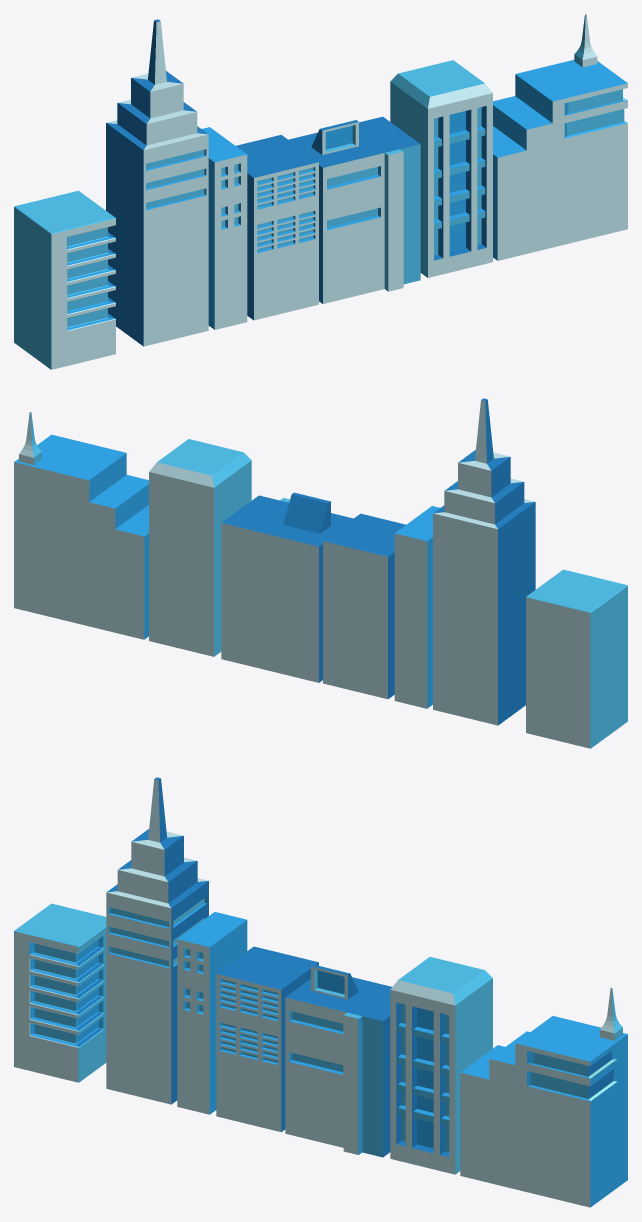
Rendered from bld-bg.fbx.
The picture shows the model from 3 angles, top to bottom: view 1: azimuth 30°, elevation 25°; view 2: azimuth 150°, elevation 25°; view 3: azimuth 330°, elevation 25°; orthographic projection.
Visible parts, largest first — view 1: Cube.011, Cube.012, Cube.009, Cube.013, Cube.003, Cube.004, Cube.007; view 2: Cube.011, Cube.012, Cube.009, Cube.013, Cube.003, Cube.004, Cube.007; view 3: Cube.012, Cube.011, Cube.009, Cube.013, Cube.003, Cube.004, Cube.007.
Boxes of the visible parts, x1,y1,x2,y2 form: Cube.011: (106,19,208,346); Cube.012: (493,14,627,260); Cube.009: (288,116,420,303); Cube.013: (390,60,492,277); Cube.003: (14,190,115,369); Cube.004: (236,134,318,320); Cube.007: (202,127,247,329); Cube.011: (433,398,535,725); Cube.012: (14,411,148,639); Cube.009: (221,492,353,682); Cube.013: (149,439,251,656); Cube.003: (526,569,627,748); Cube.004: (323,513,405,699); Cube.007: (394,506,439,708); Cube.012: (460,987,627,1207); Cube.011: (106,777,208,1104); Cube.009: (285,964,391,1157); Cube.013: (390,957,492,1174); Cube.003: (14,903,106,1082); Cube.004: (216,946,318,1132); Cube.007: (177,912,247,1114).
Size of the model in its own units: 35.44 by 17.93 by 4.4.
